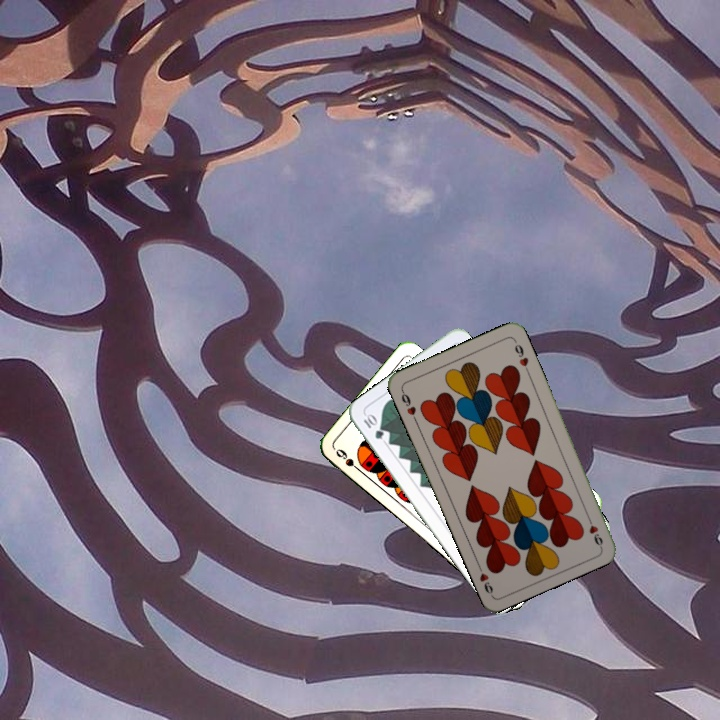G10: (359, 410, 386, 442)
H9: (582, 510, 605, 549), (397, 386, 419, 424)
S9: (331, 444, 366, 476)
